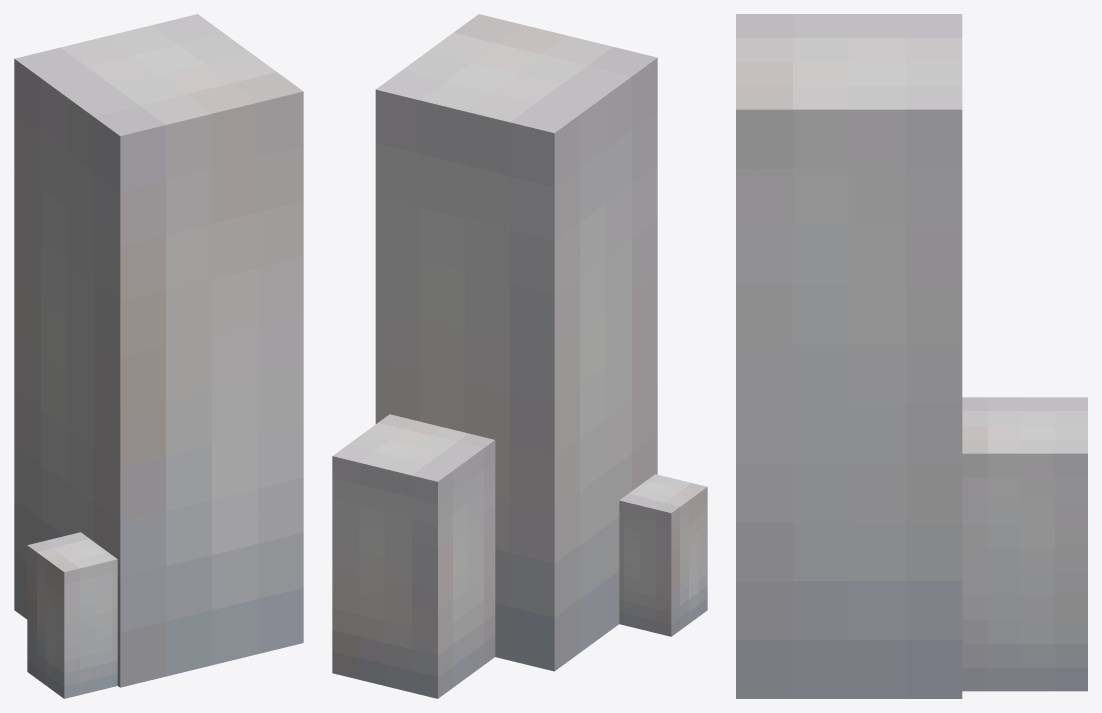
The model's file is dolomite_crystal_three.obj.
The picture shows the model from 3 angles, left to right: view 1: azimuth 30°, elevation 25°; view 2: azimuth 150°, elevation 25°; view 3: azimuth 270°, elevation 25°; orthographic projection. The views are drawn at different scales.
Visible parts, largest first — view 1: Crystal5_Cube.008; view 2: Crystal5_Cube.008; view 3: Crystal5_Cube.008.
Part boxes in pixels (box(x1,y1,x2,y2)): Crystal5_Cube.008: box(14, 14, 303, 698); Crystal5_Cube.008: box(332, 14, 707, 698); Crystal5_Cube.008: box(736, 14, 1087, 698).
Bounding box in the file's own units: 0.1959 × 0.4361 × 0.2358.
